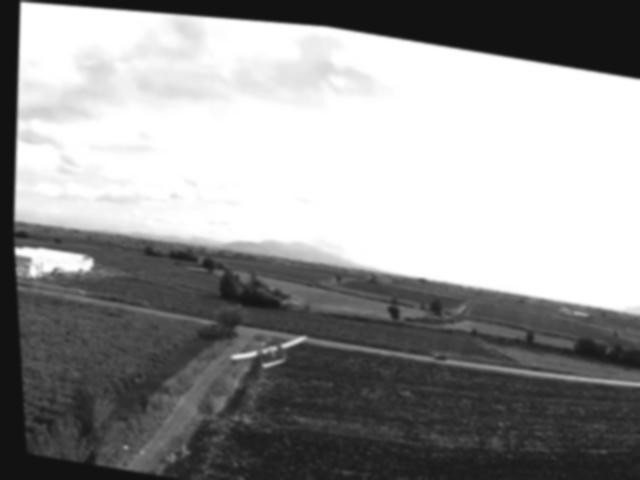hedef: (221, 314, 307, 374)
